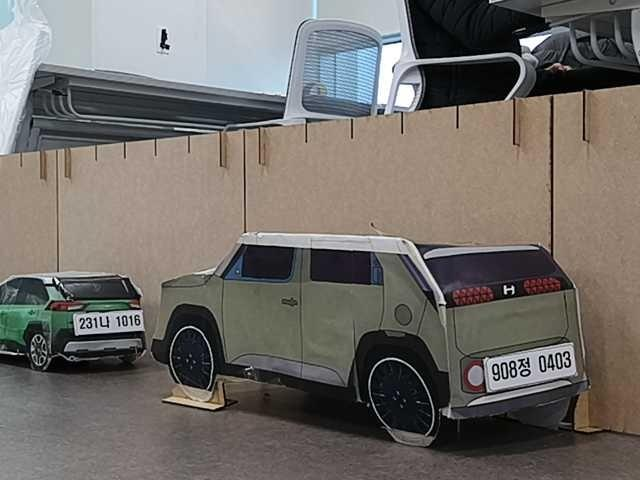car: (151, 231, 583, 448), (0, 271, 148, 368)
id: (485, 341, 575, 389), (73, 313, 143, 330)
